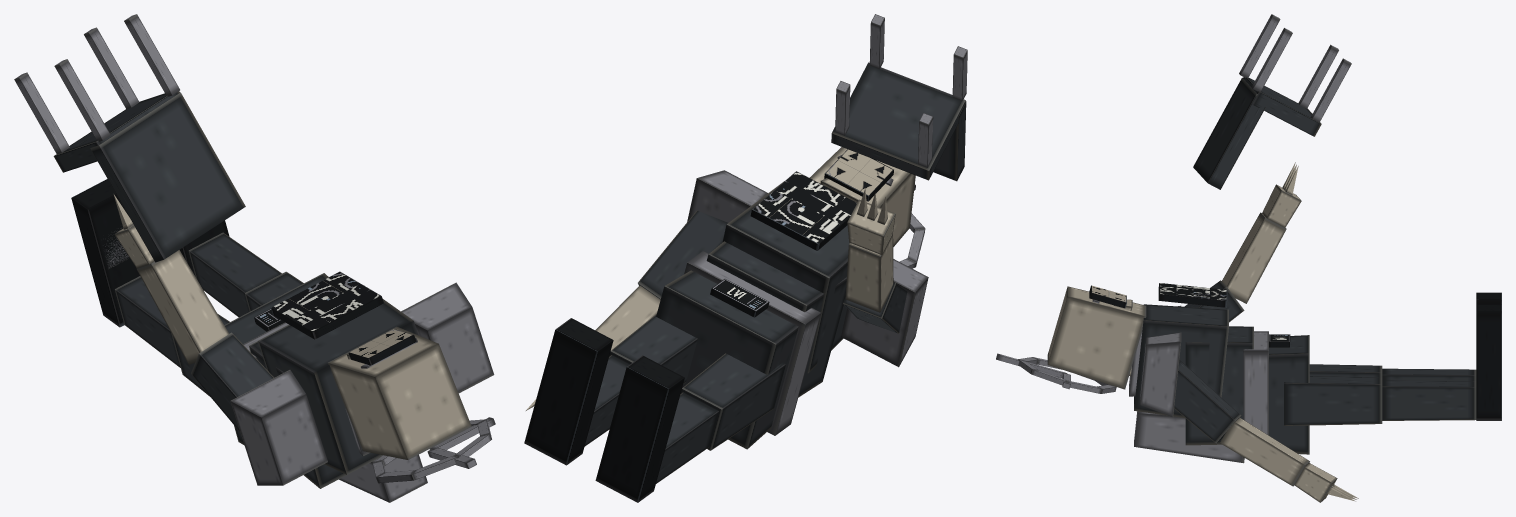
The model's file is posthum_warning.obj.
3 renders of one model, left to right at view 1: azimuth 30°, elevation 25°; view 2: azimuth 150°, elevation 25°; view 3: azimuth 270°, elevation 25°, orthographic. The views are drawn at different scales.
Visible parts, largest first — view 1: posthum_warning; view 2: posthum_warning; view 3: posthum_warning.
Part boxes in pixels (bbox=[...]): posthum_warning: bbox=[14, 14, 495, 502]; posthum_warning: bbox=[524, 14, 967, 502]; posthum_warning: bbox=[996, 14, 1501, 502].
Size of the model in its own units: 0.7216 by 0.8037 by 1.
1 material, 1 textured.
